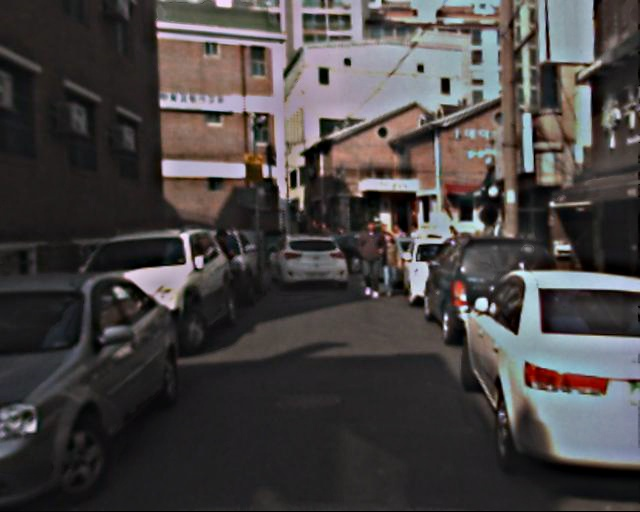person: (207, 230, 242, 315), (356, 222, 388, 300), (377, 226, 406, 297)
